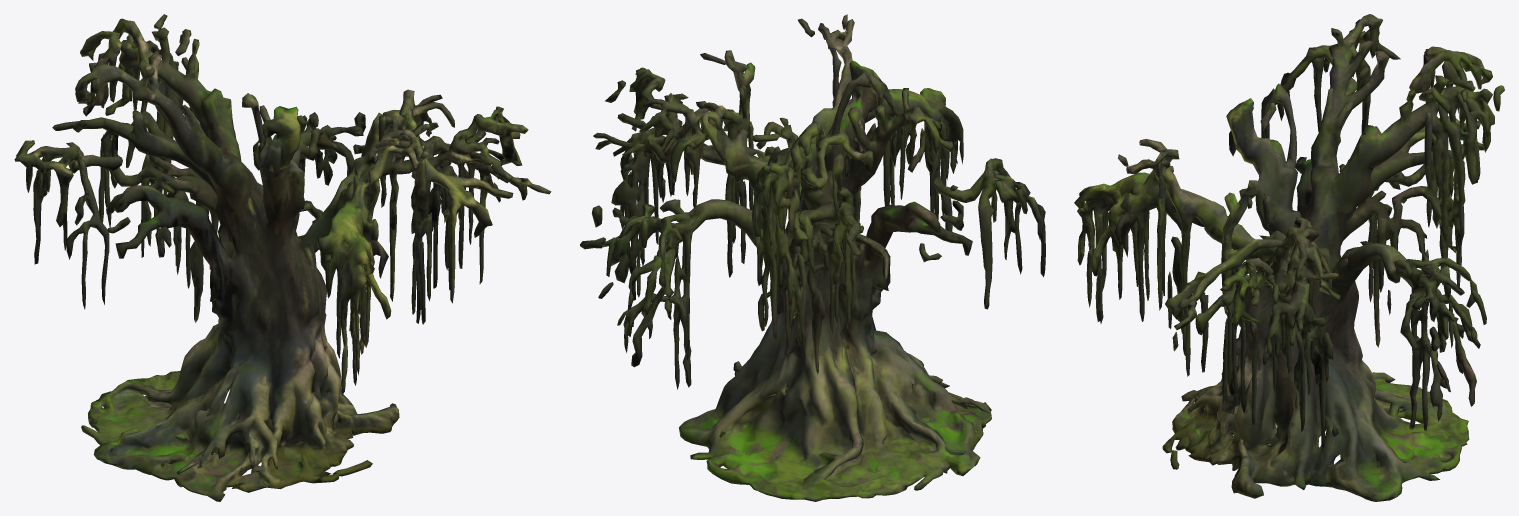
File: AI_GiantSwampTree1.fbx
3 views of the same model, side by side, from view 1: azimuth 30°, elevation 25°; view 2: azimuth 150°, elevation 25°; view 3: azimuth 270°, elevation 25° (orthographic).
Visible parts, largest first — view 1: Mesh1.0; view 2: Mesh1.0; view 3: Mesh1.0.
Boxes of the visible parts, x1=… form: Mesh1.0: x1=14, y1=14, x2=551, y2=501; Mesh1.0: x1=580, y1=14, x2=1045, y2=501; Mesh1.0: x1=1074, y1=14, x2=1504, y2=501.
Bounding box in the file's own units: 196 × 155 × 160.
Materials: 1 (1 with a texture image).
